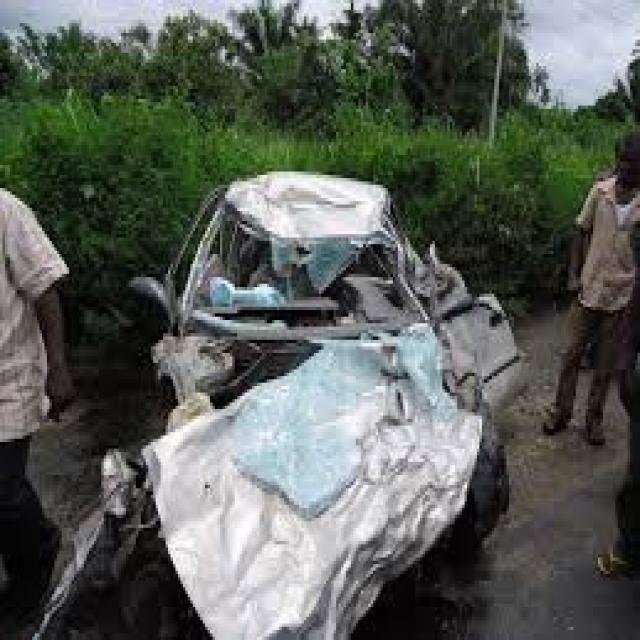accident: (147, 169, 508, 596)
